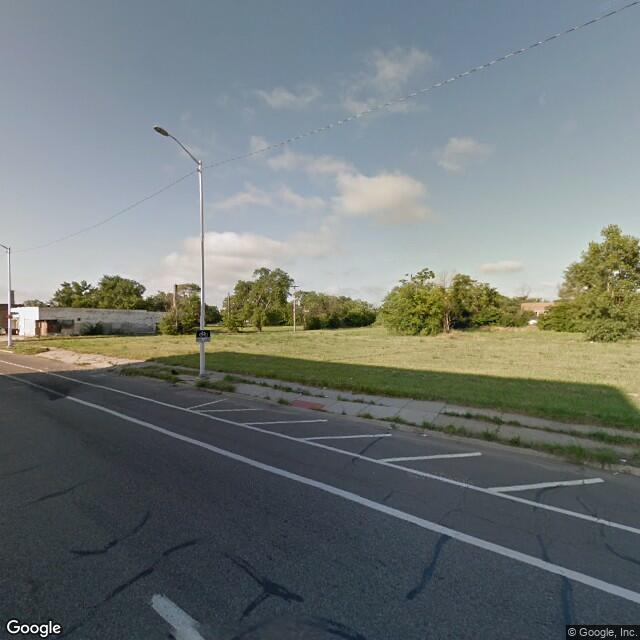litter: (618, 458, 628, 467), (418, 432, 433, 437), (320, 387, 328, 391)
